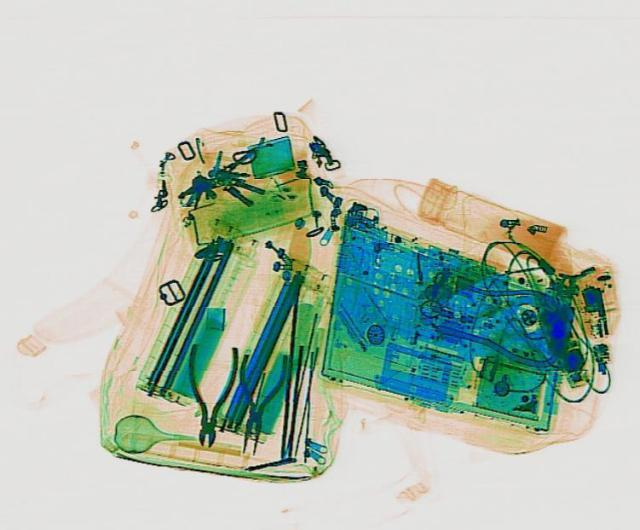Pliers: (220, 348, 290, 455), (179, 341, 239, 446)
